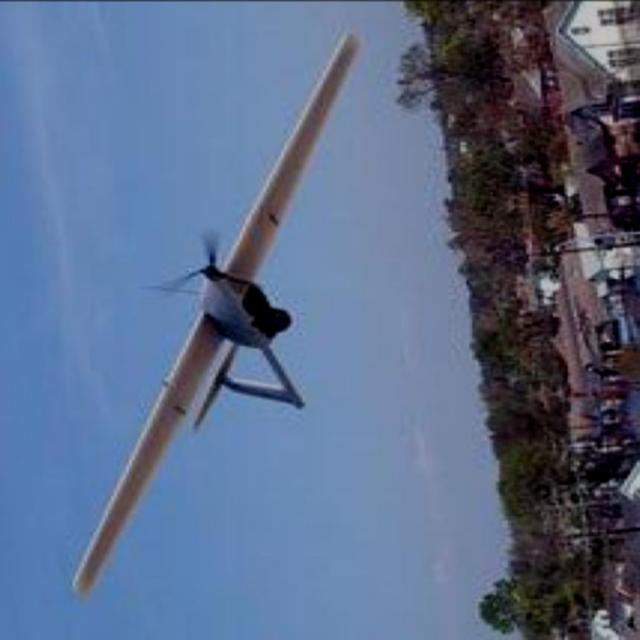plane: (66, 31, 363, 596)
